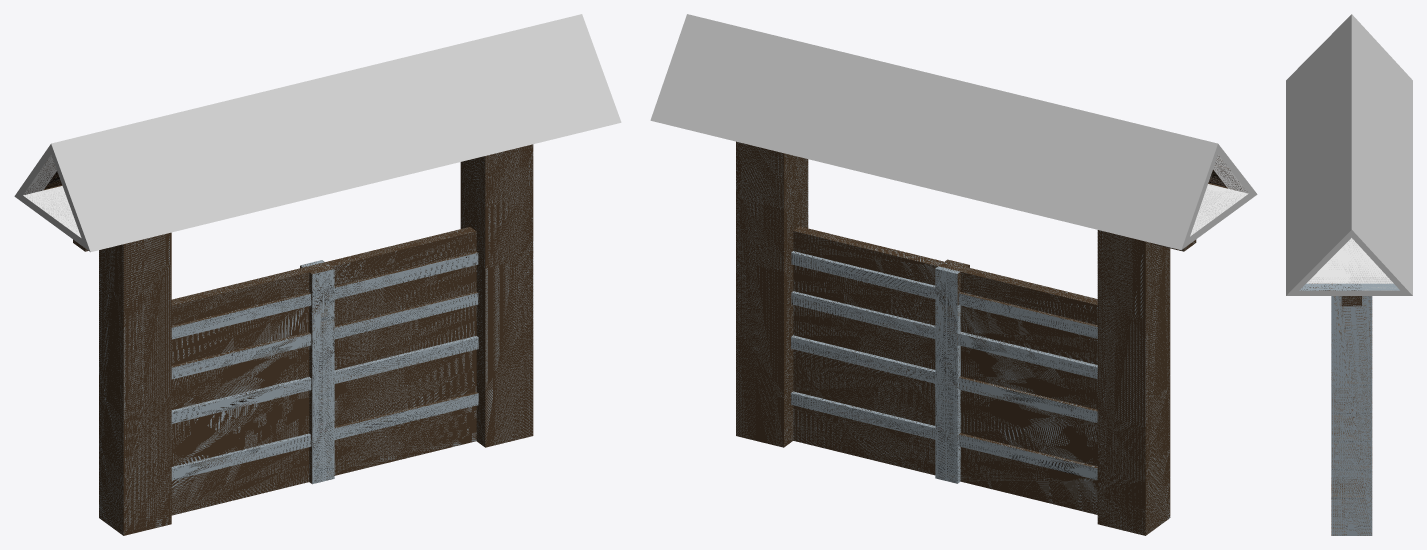
3 renders of one model, left to right at view 1: azimuth 30°, elevation 25°; view 2: azimuth 150°, elevation 25°; view 3: azimuth 270°, elevation 25°, orthographic. The views are drawn at different scales.
Visible parts, largest first — view 1: Model; view 2: Model; view 3: Model.
Boxes of the visible parts, x1,y1,x2,y2 form: Model: [14, 14, 621, 535]; Model: [650, 14, 1257, 535]; Model: [1286, 14, 1412, 535].
Bounding box in the file's own units: 369 × 264 × 91.79.
